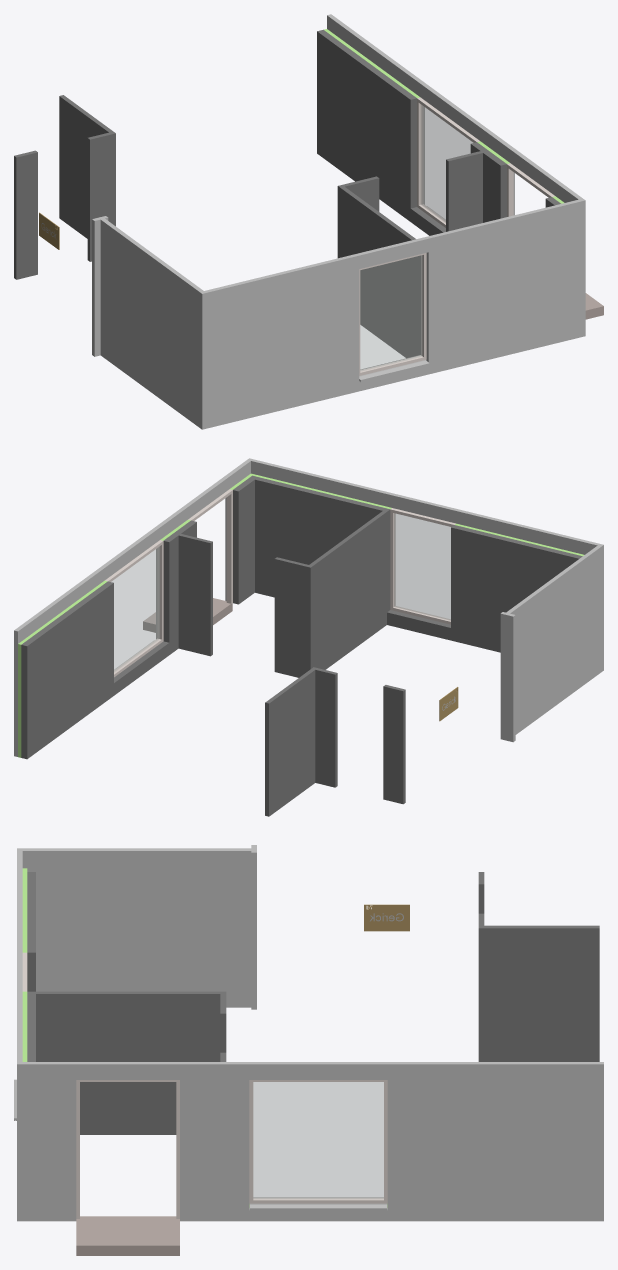
The picture shows the model from 3 angles, top to bottom: view 1: azimuth 30°, elevation 25°; view 2: azimuth 150°, elevation 25°; view 3: azimuth 270°, elevation 25°; orthographic projection. The views are drawn at different scales.
Visible parts, largest first — view 1: Walls, System Panel, Rectangular Mullion; view 2: Walls, System Panel, Rectangular Mullion, Floors; view 3: Walls, System Panel, Floors, Rectangular Mullion, Walls.001, NLRS_41_GM_WPB_waterslag RD50-90x160_vebo_ISR.
Boxes of the visible parts, x1=… form: Walls: x1=14, y1=14, x2=585, y2=429; System Panel: x1=360, y1=105, x2=472, y2=370; Rectangular Mullion: x1=359, y1=97, x2=555, y2=375; Walls: x1=14, y1=458, x2=603, y2=816; System Panel: x1=112, y1=513, x2=450, y2=672; Rectangular Mullion: x1=105, y1=489, x2=455, y2=677; Floors: x1=143, y1=598, x2=232, y2=632; Walls: x1=17, y1=845, x2=603, y2=1221; System Panel: x1=253, y1=1082, x2=383, y2=1198; Floors: x1=76, y1=1216, x2=179, y2=1255; Rectangular Mullion: x1=22, y1=952, x2=387, y2=1218; Walls.001: x1=364, y1=904, x2=409, y2=931; NLRS_41_GM_WPB_waterslag RD50-90x160_vebo_ISR: x1=14, y1=1079, x2=387, y2=1210.
Size of the model in its own units: 10.02 by 3.19 by 10.23.
